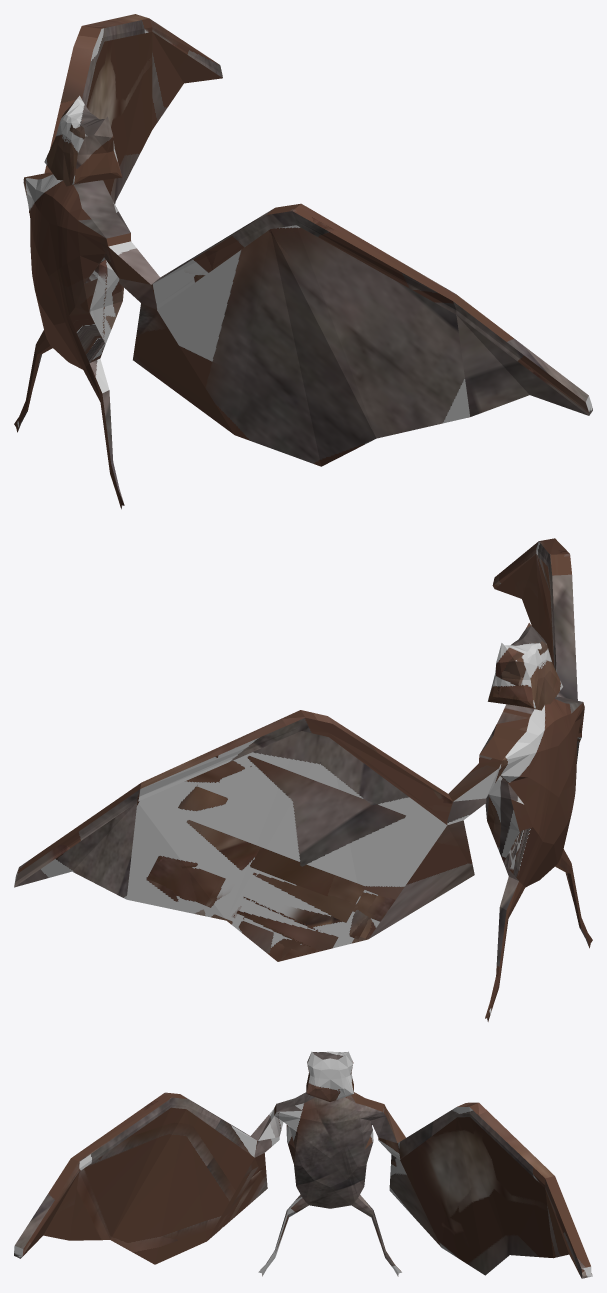
The model's file is Enemigo120.obj.
3 views of the same model, one above another, from view 1: azimuth 30°, elevation 25°; view 2: azimuth 150°, elevation 25°; view 3: azimuth 270°, elevation 25° (orthographic). The views are drawn at different scales.
Visible parts, largest first — view 1: Plano; view 2: Plano; view 3: Plano.
Boxes of the visible parts, box(x1,y1,x2,y2) form: Plano: box(14, 14, 592, 509); Plano: box(14, 538, 592, 1021); Plano: box(14, 1051, 592, 1278).
Size of the model in its own units: 0.8123 by 0.7578 by 1.7.
Materials: 1 (1 with a texture image).
